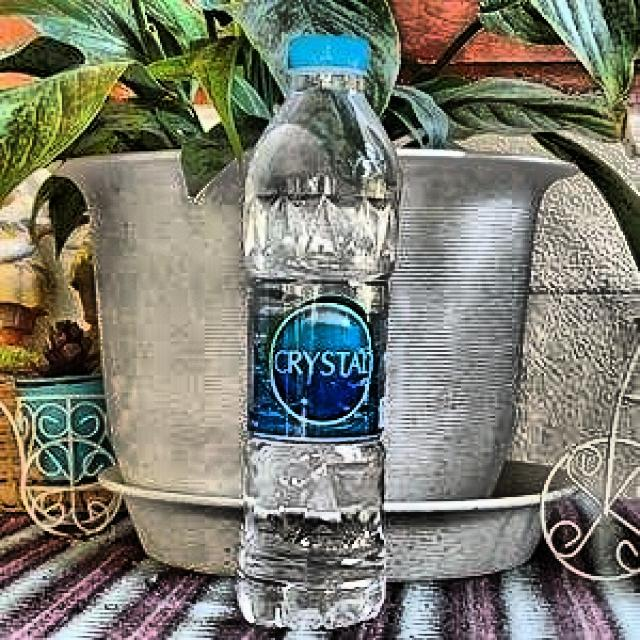Bottles: (220, 20, 410, 633)
